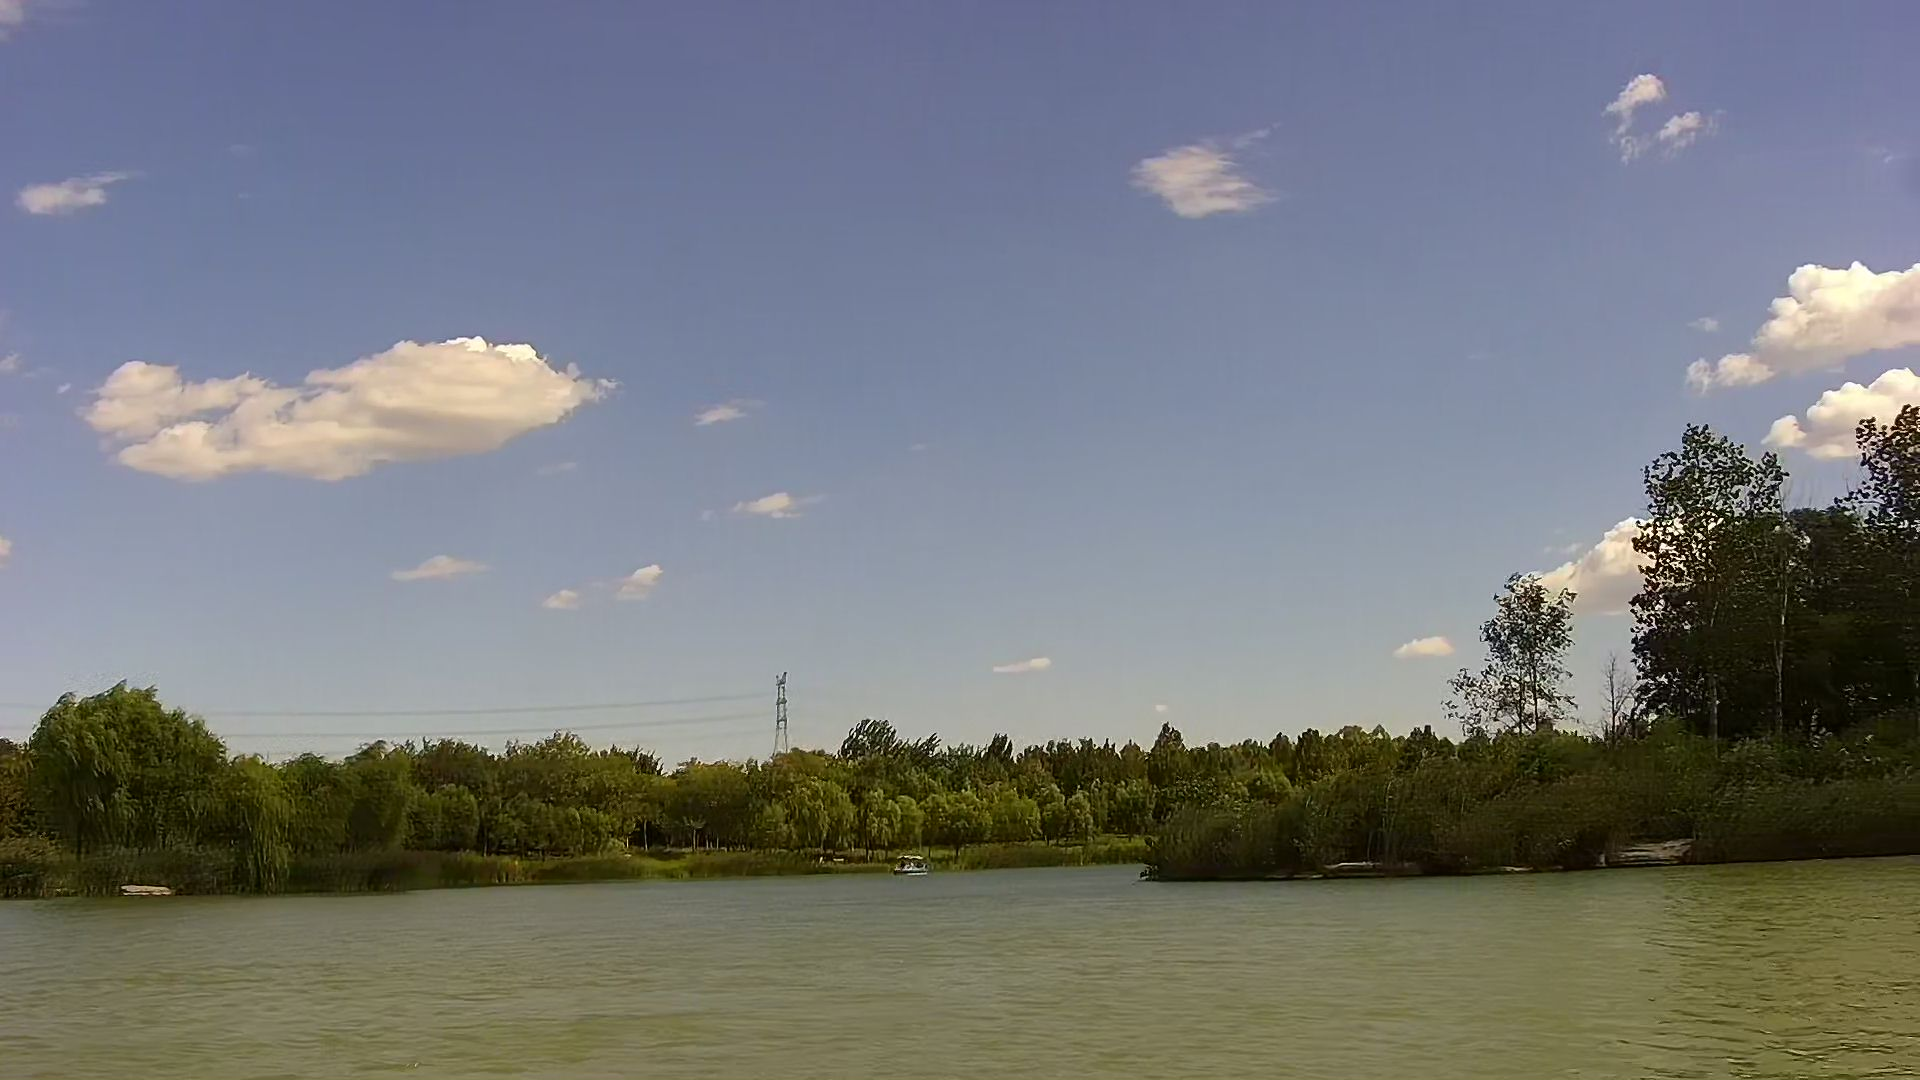boat: (891, 851, 932, 881)
rock: (1602, 837, 1691, 865), (1320, 856, 1414, 877), (120, 880, 171, 895)
